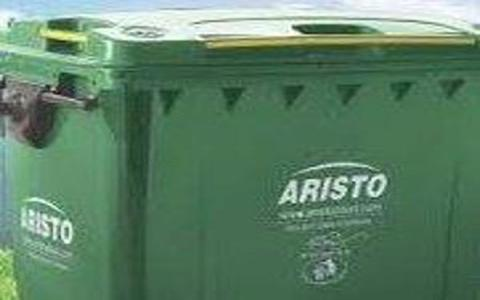Proper garbage: (1, 1, 478, 297)
